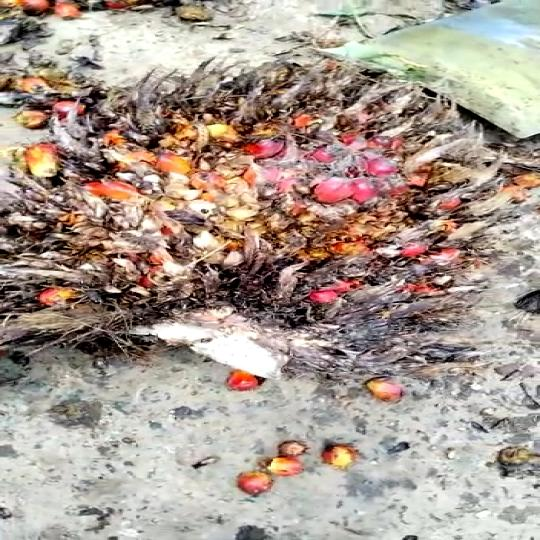terlalu masak: (0, 78, 514, 376)
